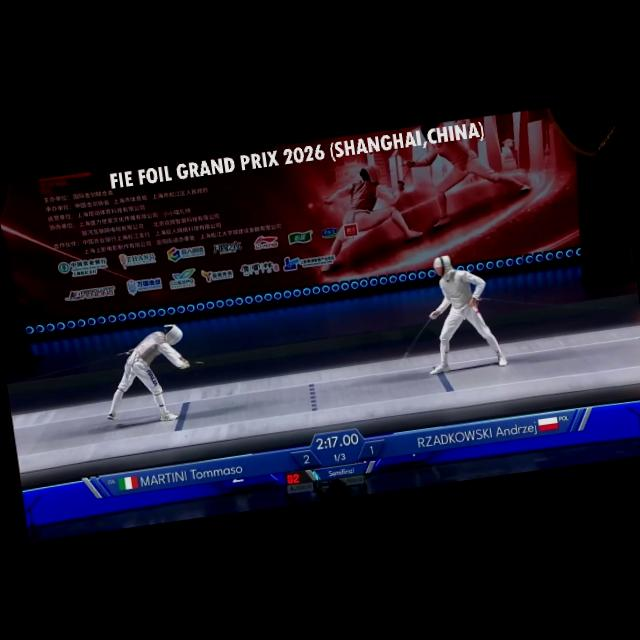blade: (390, 312, 444, 371), (183, 355, 211, 372)
